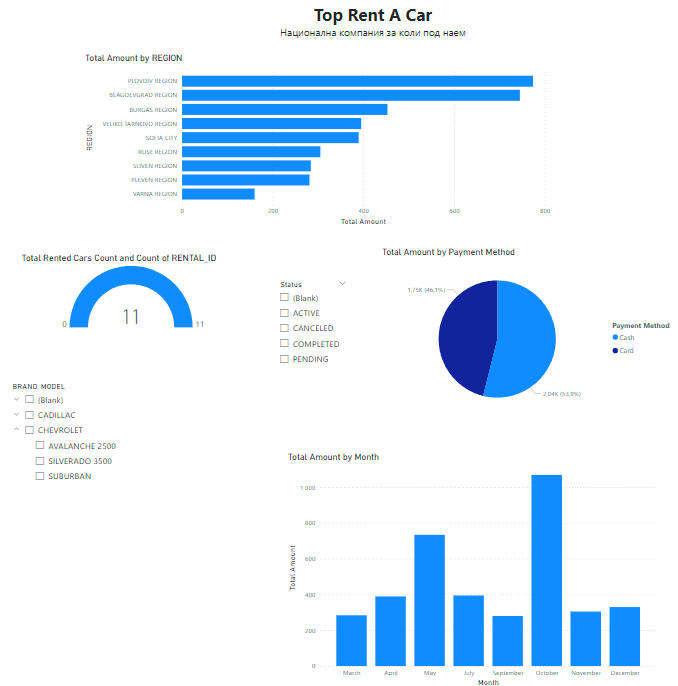

Layout of this report page (visuals, bound fields, positions):
{"tool":"powerbi","page":{"name":"Page 1","canvas":[1287,1299],"ordinal":0},"visuals":[{"type":"textbox","box":[518.6,0,375.7,100],"z":0},{"type":"gauge","fields":{"Y":["CountNonNull(RENTAL.CAR_ID)"],"MaxValue":["CountNonNull(RENTAL.RENTAL_ID)"]},"box":[38.6,478.6,431.4,150],"z":1000},{"type":"pieChart","fields":{"Y":["Sum(PAYMENT.TOTAL_AMOUNT)"],"Category":["PAYMENT.PAYMENT_METHOD"]},"box":[718.6,464.3,568.6,330],"z":2000},{"type":"slicer","fields":{"Values":["CAR.BRAND","CAR.MODEL"]},"box":[12.9,715.7,568.6,208.6],"z":3000},{"type":"barChart","fields":{"Y":["Sum(PAYMENT.TOTAL_AMOUNT)"],"Category":["OFFICE.REGION"]},"box":[158.6,100,887.1,330],"z":4000},{"type":"slicer","fields":{"Values":["STATUS.STATUS_NAME"]},"box":[518.6,522.9,150,330],"z":5000},{"type":"lineStackedColumnComboChart","fields":{"Category":["PAYMENT.PAYMENT_DATE.Variation.Date Hierarchy.Month"],"Y":["Sum(PAYMENT.TOTAL_AMOUNT)"]},"box":[540,852.5,705,447.5],"z":6000}]}

Visuals, with their boxes in screenshot pixels (x1, y1, x2, y2), scaled from the page's 1287x1299 canvas onto the 678x686 screenshot:
textbox: (273, 0, 471, 53)
gauge - CountNonNull(RENTAL.CAR_ID) x CountNonNull(RENTAL.RENTAL_ID): (20, 253, 248, 332)
pieChart - Sum(PAYMENT.TOTAL_AMOUNT) x PAYMENT.PAYMENT_METHOD: (379, 245, 677, 419)
slicer - CAR.BRAND x CAR.MODEL: (7, 378, 306, 488)
barChart - Sum(PAYMENT.TOTAL_AMOUNT) x OFFICE.REGION: (84, 53, 551, 227)
slicer - STATUS.STATUS_NAME: (273, 276, 352, 450)
lineStackedColumnComboChart - PAYMENT.PAYMENT_DATE.Variation.Date Hierarchy.Month x Sum(PAYMENT.TOTAL_AMOUNT): (284, 450, 656, 685)
